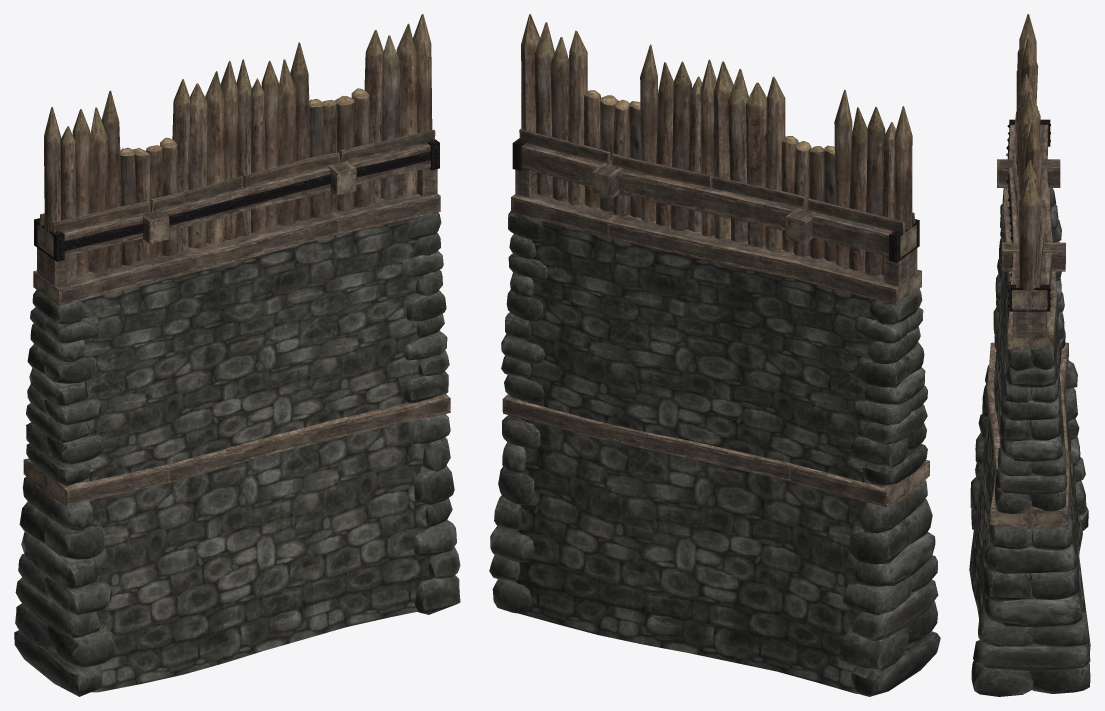
Rendered from jav_struc_def_Stone_t2_Wall_A-transformed.glb.
The picture shows the model from 3 angles, left to right: view 1: azimuth 30°, elevation 25°; view 2: azimuth 150°, elevation 25°; view 3: azimuth 270°, elevation 25°; orthographic projection. The views are drawn at different scales.
Parts seen in each view (by area): view 1: default; view 2: default; view 3: default.
Part boxes in pixels (x1,y1,x2,y2): default: [14, 14, 460, 696]; default: [489, 14, 940, 696]; default: [969, 14, 1090, 696].
Size of the model in its own units: 8.24 by 11.49 by 2.44.
Materials: 3 (3 with a texture image).
